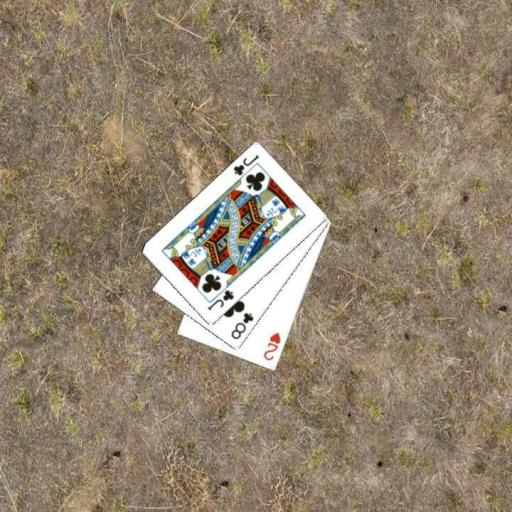card-corner: (228, 310, 255, 342), (204, 287, 235, 312), (230, 152, 261, 177), (260, 329, 282, 362)
